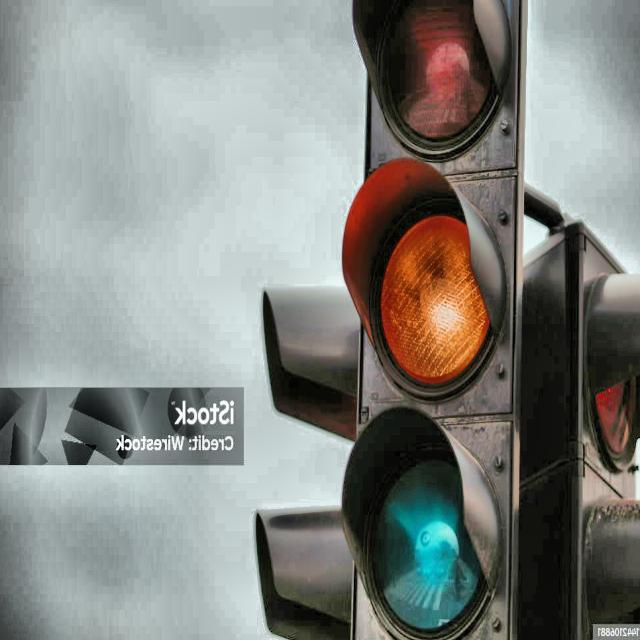yellow: (356, 0, 527, 640)
